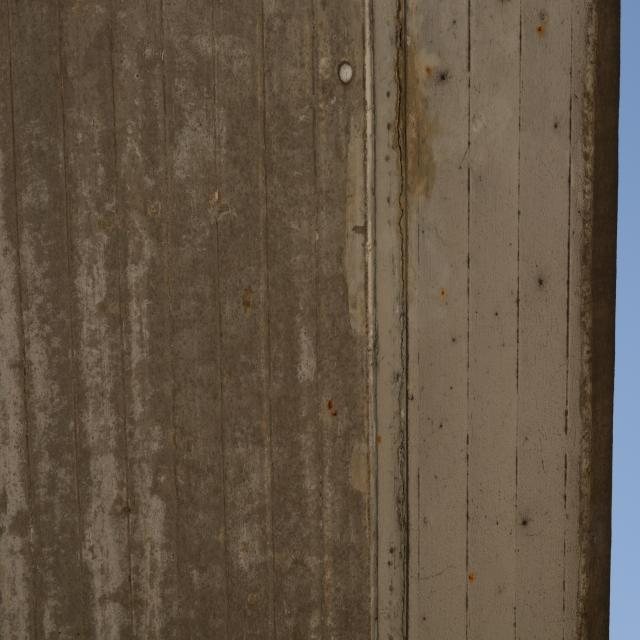corrosion: (240, 283, 254, 318), (422, 61, 436, 84), (327, 397, 339, 420), (535, 24, 544, 37), (467, 573, 478, 583), (439, 288, 446, 298), (376, 435, 383, 445), (364, 321, 370, 330), (364, 396, 370, 404)
